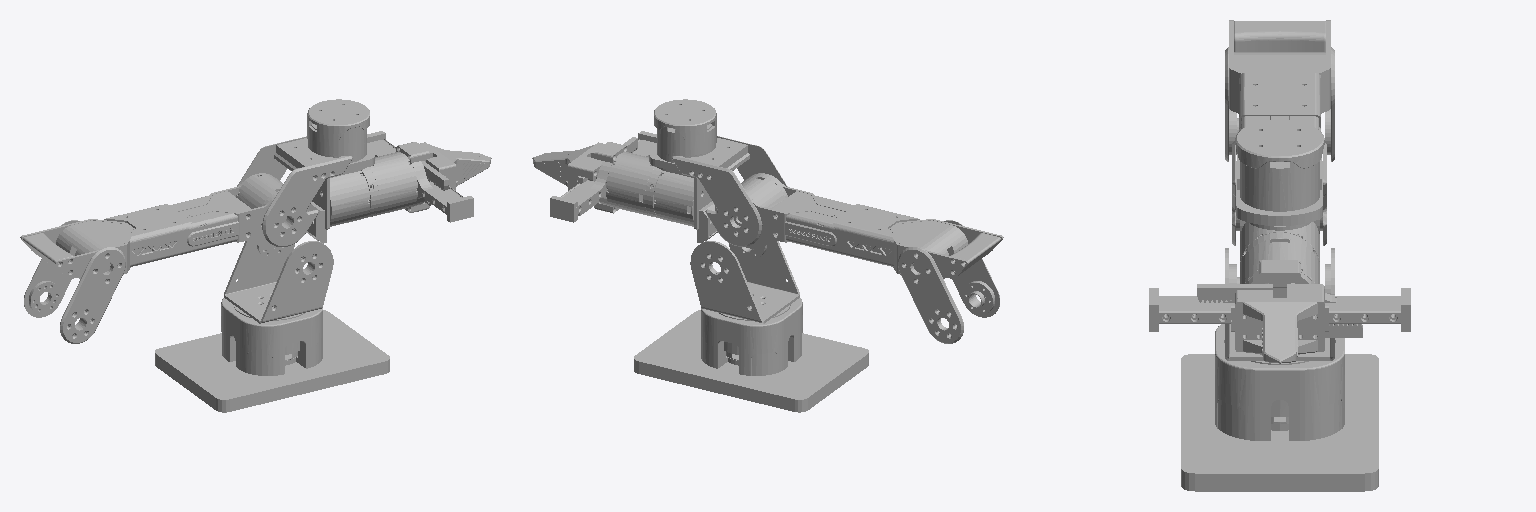
URDF robot description (reBot-DevArm):
<?xml version="1.0" encoding="utf-8"?>
<!-- This URDF was automatically created by SolidWorks to URDF Exporter! Originally created by Stephen Brawner (brawner@gmail.com) 
     Commit Version: 1.6.0-4-g7f85cfe  Build Version: 1.6.7995.38578
     For more information, please see http://wiki.ros.org/sw_urdf_exporter -->
<robot
  name="reBot-DevArm">
  <link
    name="base_link">
    <inertial>
      <origin
        xyz="-1.8573419319004E-05 -3.14893917746639E-08 0.0235694730998747"
        rpy="0 0 0" />
      <mass
        value="0.719994590495512" />
      <inertia
        ixx="0.000915098415293508"
        ixy="1.16624299234817E-08"
        ixz="-2.77627033649594E-07"
        iyy="0.00159394997606591"
        iyz="-3.83853691576437E-10"
        izz="0.00234792471513731" />
    </inertial>
    <visual>
      <origin
        xyz="0 0 0"
        rpy="0 0 0" />
      <geometry>
        <mesh
          filename="package://reBot-DevArm/meshes/base_link.STL" />
      </geometry>
      <material
        name="">
        <color
          rgba="0.752941176470588 0.752941176470588 0.752941176470588 1" />
      </material>
    </visual>
    <collision>
      <origin
        xyz="0 0 0"
        rpy="0 0 0" />
      <geometry>
        <mesh
          filename="package://reBot-DevArm/meshes/base_link.STL" />
      </geometry>
    </collision>
  </link>
  <link
    name="link1">
    <inertial>
      <origin
        xyz="0.00946544445312927 -0.000916580237430818 0.0265782762061412"
        rpy="0 0 0" />
      <mass
        value="0.0474137994557966" />
      <inertia
        ixx="6.36839627695188E-05"
        ixy="-1.55440663108089E-11"
        ixz="-7.08508824336641E-06"
        iyy="3.98844280553227E-05"
        iyz="-4.45564290231006E-11"
        izz="5.92016142489911E-05" />
    </inertial>
    <visual>
      <origin
        xyz="0 0 0"
        rpy="0 0 0" />
      <geometry>
        <mesh
          filename="package://reBot-DevArm/meshes/link1.STL" />
      </geometry>
      <material
        name="">
        <color
          rgba="0.752941176470588 0.752941176470588 0.752941176470588 1" />
      </material>
    </visual>
    <collision>
      <origin
        xyz="0 0 0"
        rpy="0 0 0" />
      <geometry>
        <mesh
          filename="package://reBot-DevArm/meshes/link1.STL" />
      </geometry>
    </collision>
  </link>
  <joint
    name="joint1"
    type="revolute">
    <origin
      xyz="0 0 0.0708"
      rpy="0 0 0" />
    <parent
      link="base_link" />
    <child
      link="link1" />
    <axis
      xyz="0 0 1" />
    <limit
      lower="-3.14"
      upper="3.14"
      effort="27"
      velocity="50" />
  </joint>
  <link
    name="link2">
    <inertial>
      <origin
        xyz="-0.13289 -0.0032582 -0.034938"
        rpy="0 0 0" />
      <mass
        value="0.73923" />
      <inertia
        ixx="0.00025611"
        ixy="-6.7442E-06"
        ixz="4.8179E-10"
        iyy="0.0020619"
        iyz="4.3704E-07"
        izz="0.0020591" />
    </inertial>
    <visual>
      <origin
        xyz="0 0 0"
        rpy="0 0 0" />
      <geometry>
        <mesh
          filename="package://reBot-DevArm/meshes/link2.STL" />
      </geometry>
      <material
        name="">
        <color
          rgba="0.75294 0.75294 0.75294 1" />
      </material>
    </visual>
    <collision>
      <origin
        xyz="0 0 0"
        rpy="0 0 0" />
      <geometry>
        <mesh
          filename="package://reBot-DevArm/meshes/link2.STL" />
      </geometry>
    </collision>
  </link>
  <joint
    name="joint2"
    type="revolute">
    <origin
      xyz="0.02 0.035625 0.0497"
      rpy="-1.5708 0 0" />
    <parent
      link="link1" />
    <child
      link="link2" />
    <axis
      xyz="0 0 -1" />
    <limit
      lower="-3.14"
      upper="0"
      effort="27"
      velocity="50" />
  </joint>
  <link
    name="link3">
    <inertial>
      <origin
        xyz="0.12394 -0.054595 -0.035216"
        rpy="0 0 0" />
      <mass
        value="0.51722" />
      <inertia
        ixx="0.00015445"
        ixy="1.3141E-05"
        ixz="-1.0837E-09"
        iyy="0.0013152"
        iyz="2.7729E-07"
        izz="0.0013088" />
    </inertial>
    <visual>
      <origin
        xyz="0 0 0"
        rpy="0 0 0" />
      <geometry>
        <mesh
          filename="package://reBot-DevArm/meshes/link3.STL" />
      </geometry>
      <material
        name="">
        <color
          rgba="0.75294 0.75294 0.75294 1" />
      </material>
    </visual>
    <collision>
      <origin
        xyz="0 0 0"
        rpy="0 0 0" />
      <geometry>
        <mesh
          filename="package://reBot-DevArm/meshes/link3.STL" />
      </geometry>
    </collision>
  </link>
  <joint
    name="joint3"
    type="revolute">
    <origin
      xyz="-0.264 0 0"
      rpy="0 0 0" />
    <parent
      link="link2" />
    <child
      link="link3" />
    <axis
      xyz="0 0 1" />
    <limit
      lower="-3.14"
      upper="0"
      effort="27"
      velocity="50" />
  </joint>
  <link
    name="link4">
    <inertial>
      <origin
        xyz="0.0605173509890757 -0.0515591812721402 -0.0304480106784497"
        rpy="0 0 0" />
      <mass
        value="0.192697131774934" />
      <inertia
        ixx="8.02180695386143E-05"
        ixy="1.80653906847014E-05"
        ixz="4.16372809232225E-08"
        iyy="0.00011283880277066"
        iyz="-1.27766109264829E-07"
        izz="0.000110011824792294" />
    </inertial>
    <visual>
      <origin
        xyz="0 0 0"
        rpy="0 0 0" />
      <geometry>
        <mesh
          filename="package://reBot-DevArm/meshes/link4.STL" />
      </geometry>
      <material
        name="">
        <color
          rgba="0.752941176470588 0.752941176470588 0.752941176470588 1" />
      </material>
    </visual>
    <collision>
      <origin
        xyz="0 0 0"
        rpy="0 0 0" />
      <geometry>
        <mesh
          filename="package://reBot-DevArm/meshes/link4.STL" />
      </geometry>
    </collision>
  </link>
  <joint
    name="joint4"
    type="revolute">
    <origin
      xyz="0.2426 -0.054 -0.005625"
      rpy="0 0 0" />
    <parent
      link="link3" />
    <child
      link="link4" />
    <axis
      xyz="0 0 1" />
    <limit
      lower="-1.87"
      upper="1.57"
      effort="7"
      velocity="200" />
  </joint>
  <link
    name="link5">
    <inertial>
      <origin
        xyz="-0.0050794127558127 0.00010101378072503 0.0368401332519827"
        rpy="0 0 0" />
      <mass
        value="0.132385396678886" />
      <inertia
        ixx="5.35384612243393E-05"
        ixy="2.77627187996668E-07"
        ixz="3.09969892642944E-06"
        iyy="4.65021943386178E-05"
        iyz="1.16620238873401E-08"
        izz="4.49715503183576E-05" />
    </inertial>
    <visual>
      <origin
        xyz="0 0 0"
        rpy="0 0 0" />
      <geometry>
        <mesh
          filename="package://reBot-DevArm/meshes/link5.STL" />
      </geometry>
      <material
        name="">
        <color
          rgba="0.752941176470588 0.752941176470588 0.752941176470588 1" />
      </material>
    </visual>
    <collision>
      <origin
        xyz="0 0 0"
        rpy="0 0 0" />
      <geometry>
        <mesh
          filename="package://reBot-DevArm/meshes/link5.STL" />
      </geometry>
    </collision>
  </link>
  <joint
    name="joint5"
    type="revolute">
    <origin
      xyz="0.078308 -0.0355 -0.03"
      rpy="-1.5708 0 0" />
    <parent
      link="link4" />
    <child
      link="link5" />
    <axis
      xyz="0 0 1" />
    <limit
      lower="-1.57"
      upper="1.57"
      effort="7"
      velocity="200" />
  </joint>
  <link
    name="link6">
    <inertial>
      <origin
        xyz="1.14681284077989E-05 7.51624979459103E-05 0.0355150913822891"
        rpy="0 0 0" />
      <mass
        value="0.178456061138362" />
      <inertia
        ixx="0.000194548973944647"
        ixy="-1.17842202341071E-08"
        ixz="2.46895847005566E-09"
        iyy="5.06722659461651E-05"
        iyz="2.7762918713302E-07"
        izz="0.000214671216235759" />
    </inertial>
    <visual>
      <origin
        xyz="0 0 0"
        rpy="0 0 0" />
      <geometry>
        <mesh
          filename="package://reBot-DevArm/meshes/link6.STL" />
      </geometry>
      <material
        name="">
        <color
          rgba="0.752941176470588 0.752941176470588 0.752941176470588 1" />
      </material>
    </visual>
    <collision>
      <origin
        xyz="0 0 0"
        rpy="0 0 0" />
      <geometry>
        <mesh
          filename="package://reBot-DevArm/meshes/link6.STL" />
      </geometry>
    </collision>
  </link>
  <joint
    name="joint6"
    type="revolute">
    <origin
      xyz="0.027192 0 0.038"
      rpy="0 1.5708 0" />
    <parent
      link="link5" />
    <child
      link="link6" />
    <axis
      xyz="0 0 1" />
    <limit
      lower="-6.28"
      upper="6.28"
      effort="7"
      velocity="200" />
  </joint>
  <link
    name="end_link">
    <inertial>
      <origin
        xyz="-0.0603508668147593 5.41851246163572E-08 -5.95856580462573E-06"
        rpy="0 0 0" />
      <mass
        value="0.0839041074390549" />
      <inertia
        ixx="2.00814006144879E-05"
        ixy="-8.12712320188636E-14"
        ixz="-2.19504115676869E-12"
        iyy="1.9644584725852E-05"
        iyz="2.09784702754442E-08"
        izz="2.3128032411705E-05" />
    </inertial>
    <visual>
      <origin
        xyz="0 0 0"
        rpy="0 0 0" />
      <geometry>
        <mesh
          filename="package://reBot-DevArm/meshes/end_link.STL" />
      </geometry>
      <material
        name="">
        <color
          rgba="0.752941176470588 0.752941176470588 0.752941176470588 1" />
      </material>
    </visual>
    <collision>
      <origin
        xyz="0 0 0"
        rpy="0 0 0" />
      <geometry>
        <mesh
          filename="package://reBot-DevArm/meshes/end_link.STL" />
      </geometry>
    </collision>
  </link>
  <joint
    name="end_joint"
    type="fixed">
    <origin
      xyz="-0.000186969018044991 -5.94517128449934E-05 0.14920932564575"
      rpy="0 -1.5707963267949 0" />
    <parent
      link="link6" />
    <child
      link="end_link" />
    <axis
      xyz="0 1 0" />
  </joint>
</robot>

--- Facts derived from the render (not from the file) ---
The picture shows the robot from 3 angles, left to right: view 1: azimuth 30°, elevation 25°; view 2: azimuth 150°, elevation 25°; view 3: azimuth 270°, elevation 25°; orthographic projection.
Model reBot-DevArm with 8 links and 7 joints (6 revolute, 1 fixed), rooted at base_link, posed every joint at zero.
Visible links, largest first — view 1: link3, base_link, link4, link1, link6, link5, end_link; view 2: link3, base_link, link4, link1, link6, link5, end_link; view 3: base_link, link3, link4, link6, end_link, link1, link5.
Link boxes in pixels (box(x1,y1,x2,y2)): link3: box(20, 173, 309, 343); base_link: box(155, 298, 389, 412); link4: box(237, 99, 374, 246); link1: box(224, 240, 333, 323); link6: box(361, 131, 473, 222); link5: box(306, 168, 370, 243); end_link: box(420, 142, 491, 205); link3: box(715, 173, 1003, 343); base_link: box(634, 298, 868, 412); link4: box(649, 99, 787, 246); link1: box(690, 240, 799, 323); link6: box(550, 131, 662, 222); link5: box(654, 167, 717, 242); end_link: box(532, 137, 637, 215); base_link: box(1181, 324, 1378, 491); link3: box(1225, 20, 1334, 233); link4: box(1232, 120, 1326, 245); link6: box(1149, 232, 1410, 354); end_link: box(1197, 284, 1362, 363); link1: box(1225, 248, 1334, 360); link5: box(1240, 221, 1319, 261).
Bounding box of the posed robot: 0.524 × 0.1841 × 0.264 m (x, y, z).
7 mesh visuals loaded from 8 distinct referenced files (7 binary STL); not drawn: 1 (reference not matched to a file when rendering).
